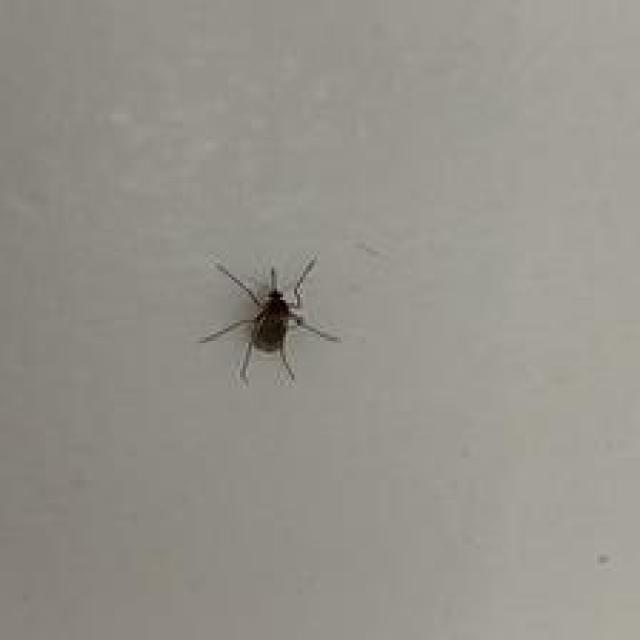Culex: (197, 254, 340, 386)
